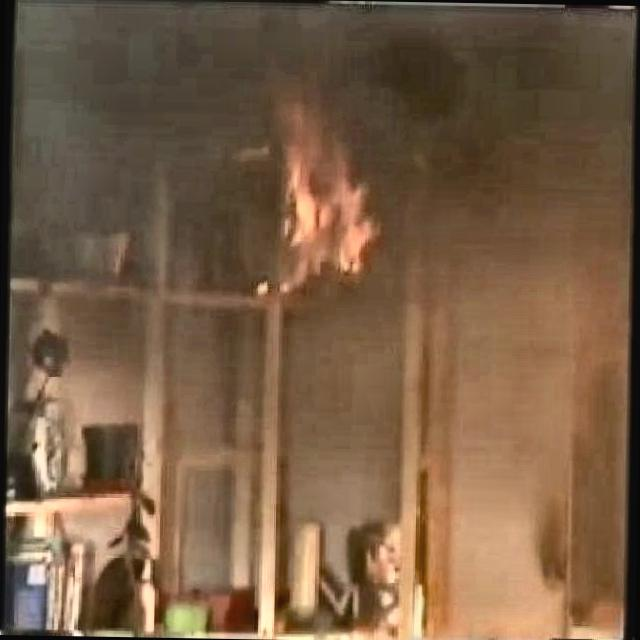fire: (245, 99, 394, 281)
